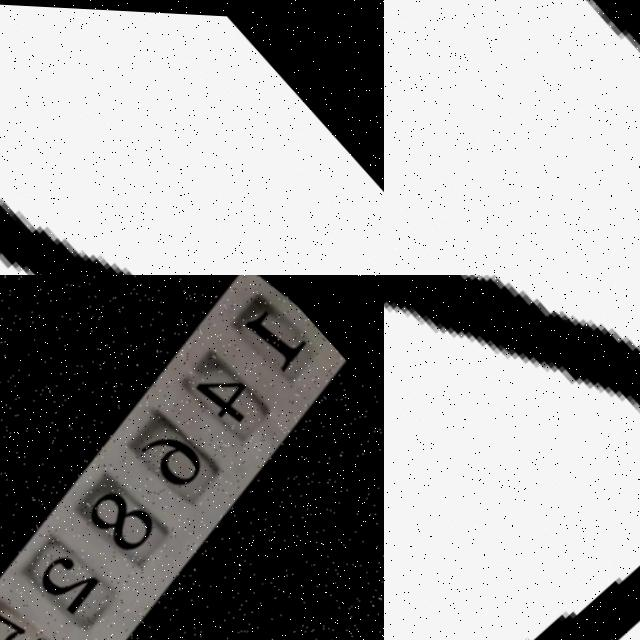1: (216, 275, 331, 384)
2: (12, 517, 129, 634)
4: (171, 331, 281, 440)
5: (0, 577, 78, 640)
6: (119, 393, 231, 505)
8: (65, 454, 185, 573)
J: (0, 0, 384, 275), (442, 0, 640, 254)
L: (384, 275, 640, 640)
